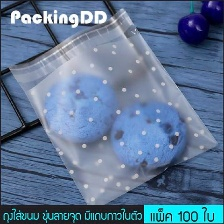snack: (1, 2, 224, 205)
